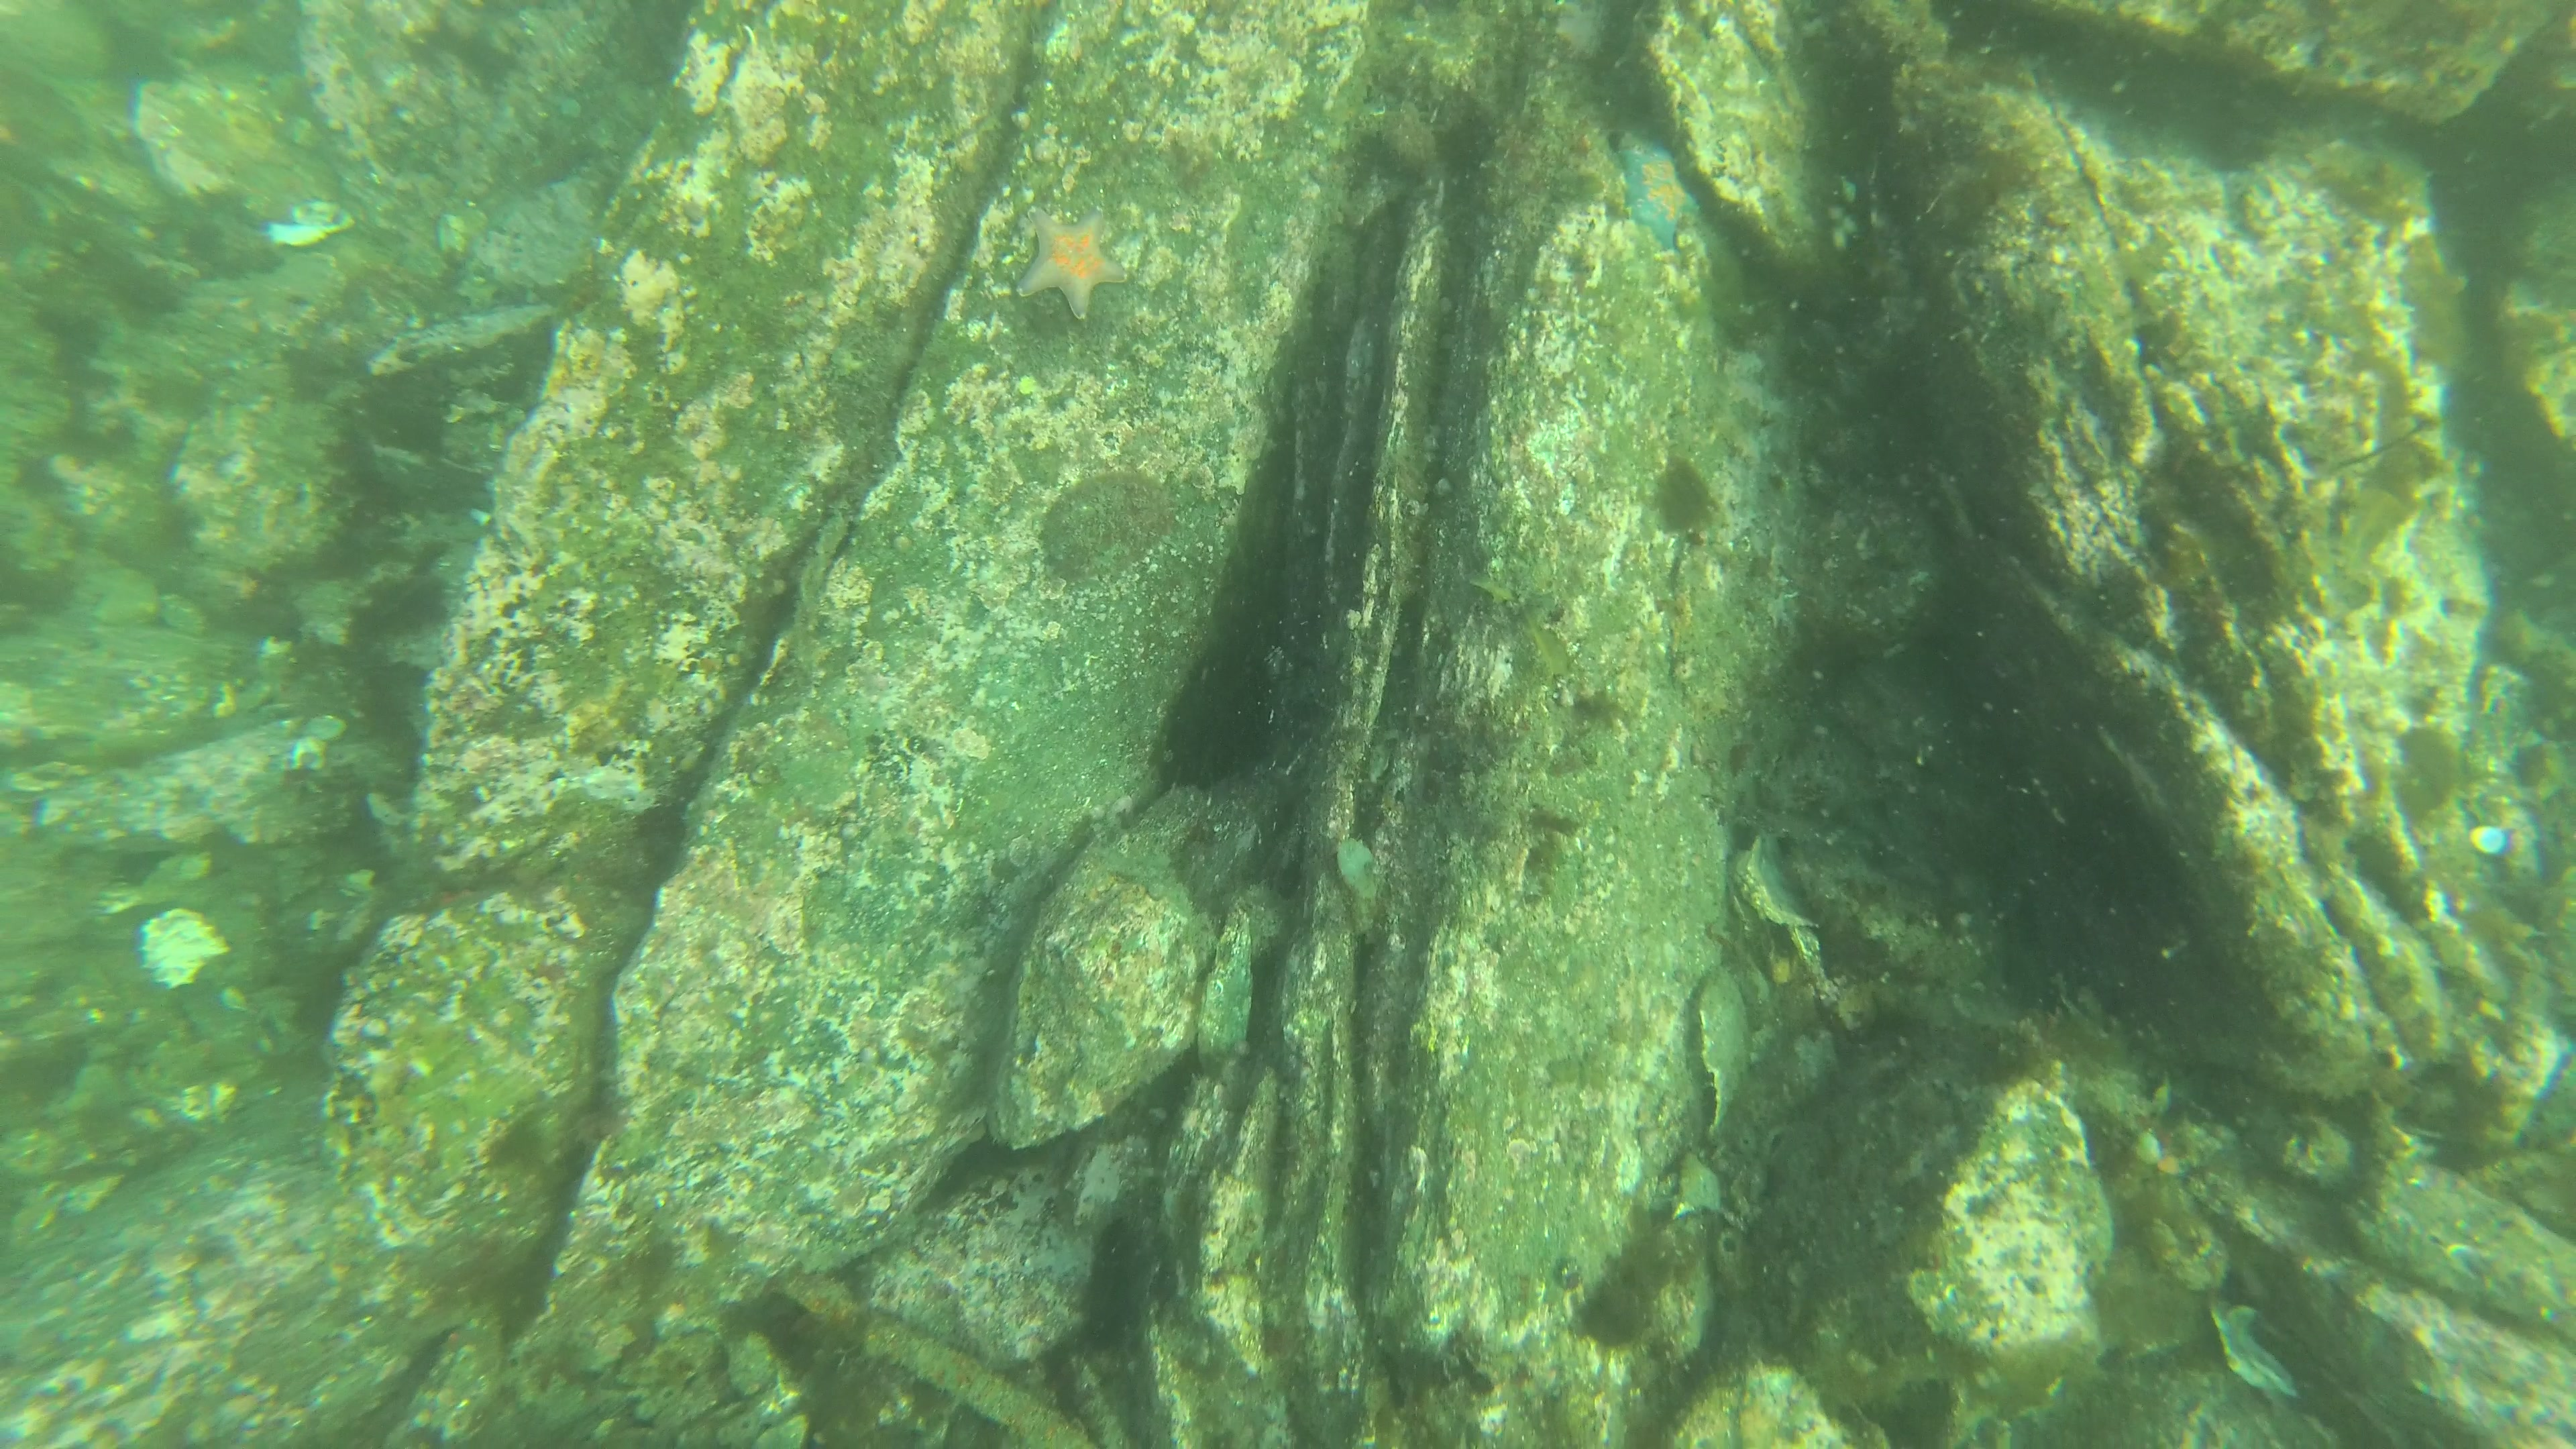starfish: (1605, 127, 1711, 253), (1024, 205, 1136, 322)
